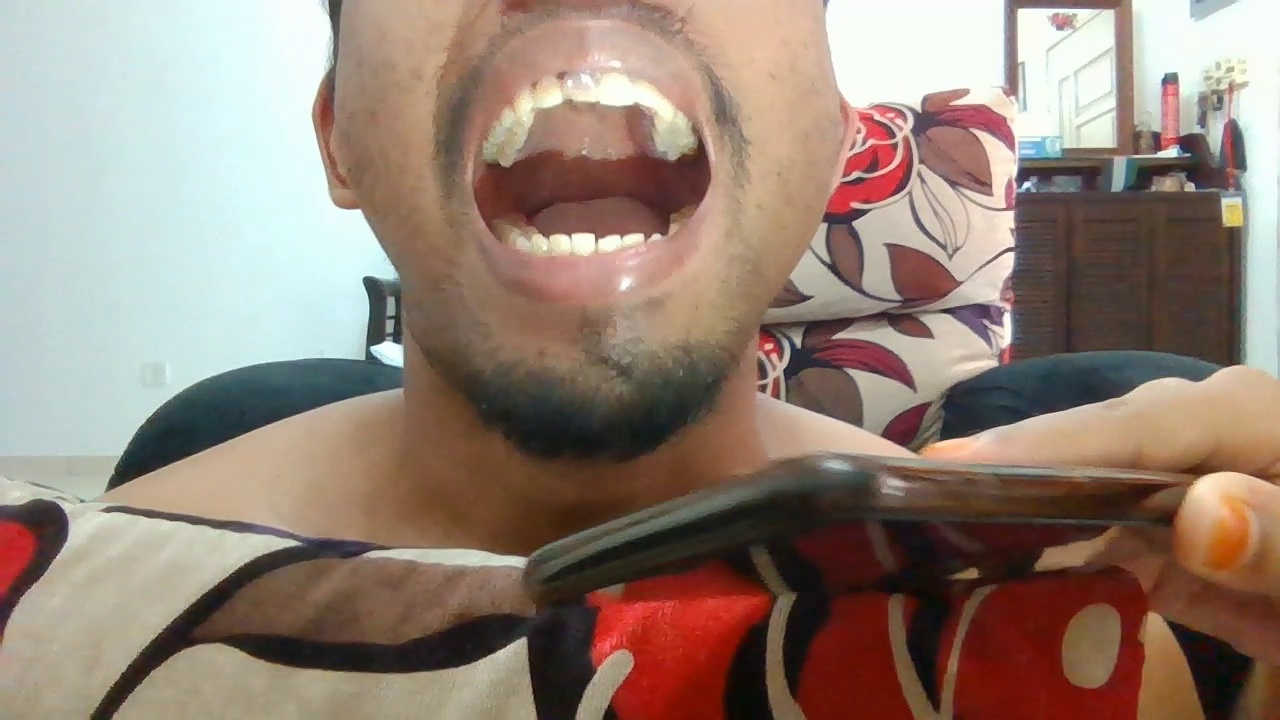1st Premolar: (501, 105, 533, 126)
2nd Premolar: (489, 122, 527, 147), (484, 143, 519, 156)
Canine: (514, 86, 535, 115), (655, 96, 674, 120), (533, 238, 550, 256)
Central Incisor: (600, 72, 636, 107), (563, 72, 600, 105), (570, 231, 596, 257), (596, 232, 620, 253)
Lateral Incisor: (534, 74, 562, 107), (636, 79, 660, 107), (620, 232, 646, 250), (550, 233, 571, 255)
